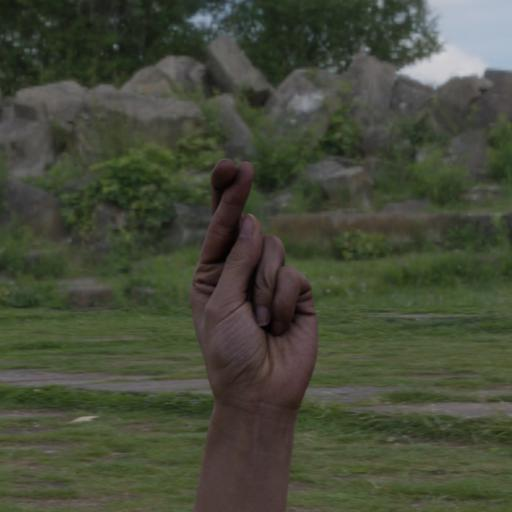R: (178, 142, 334, 421)
